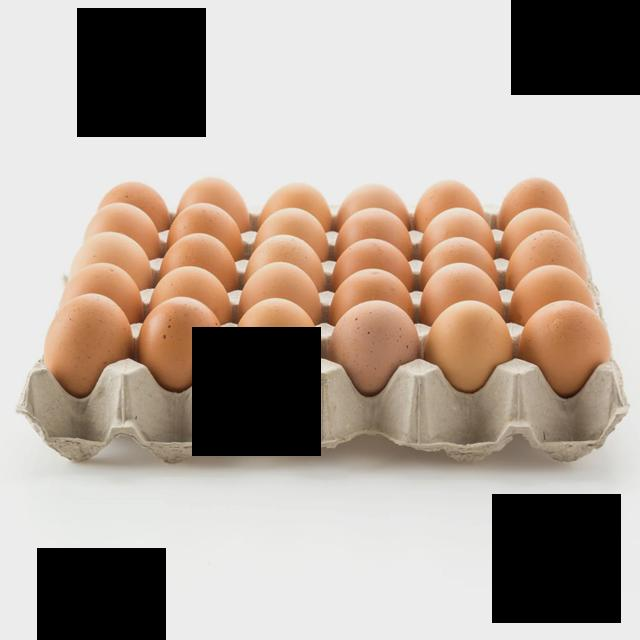eggs: (45, 295, 133, 398), (520, 302, 613, 398), (135, 298, 227, 393), (424, 301, 516, 395), (331, 301, 420, 398), (234, 298, 320, 398), (56, 263, 143, 326), (238, 261, 321, 326), (508, 265, 594, 327), (147, 265, 233, 326), (421, 263, 504, 326), (506, 230, 589, 291), (328, 268, 415, 326), (157, 233, 238, 293), (242, 234, 324, 293), (71, 233, 152, 292), (166, 203, 244, 261), (331, 239, 414, 292), (418, 237, 499, 291), (83, 204, 161, 260), (174, 177, 249, 234), (334, 208, 413, 262), (251, 208, 329, 262), (418, 208, 497, 261), (499, 208, 576, 260), (257, 182, 333, 233), (97, 182, 171, 234), (414, 180, 486, 233), (497, 179, 570, 231), (335, 183, 410, 232)
